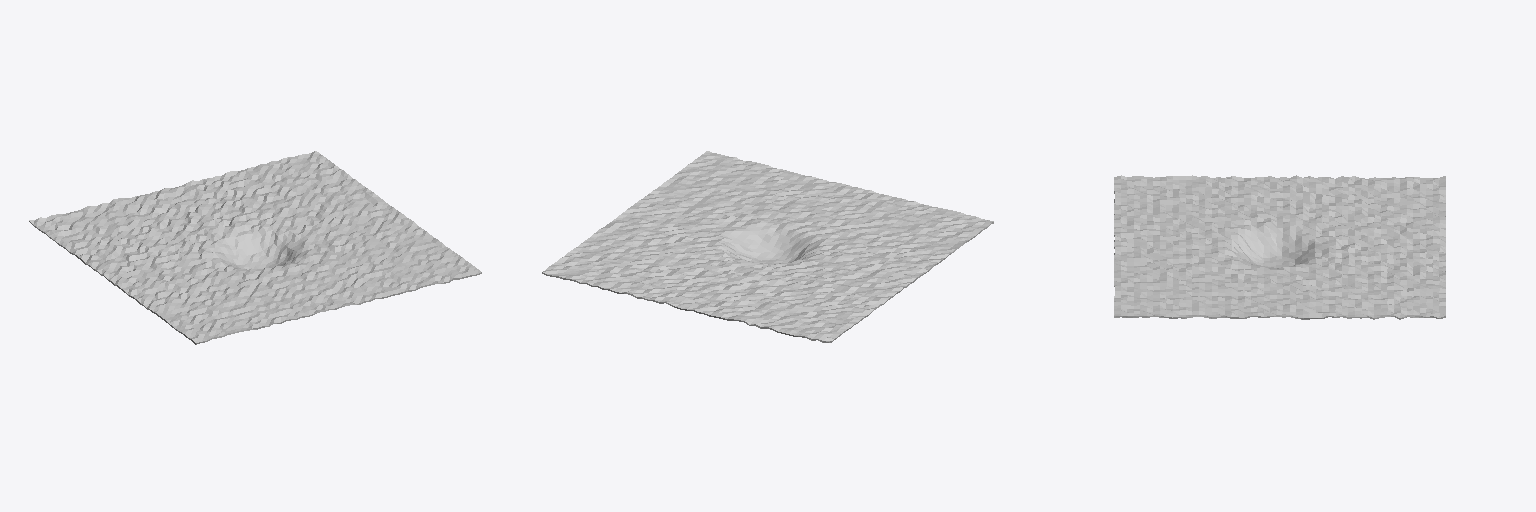
The model's file is ground.obj.
The picture shows the model from 3 angles: view 1: azimuth 30°, elevation 25°; view 2: azimuth 150°, elevation 25°; view 3: azimuth 270°, elevation 25°; orthographic projection.
Parts seen in each view (by area): view 1: Plane; view 2: Plane; view 3: Plane.
Boxes of the visible parts, <box> form: Plane: <box>29,151,481,344</box>; Plane: <box>542,151,993,342</box>; Plane: <box>1114,175,1445,319</box>.
Size of the model in its own units: 40.19 by 2.76 by 40.11.